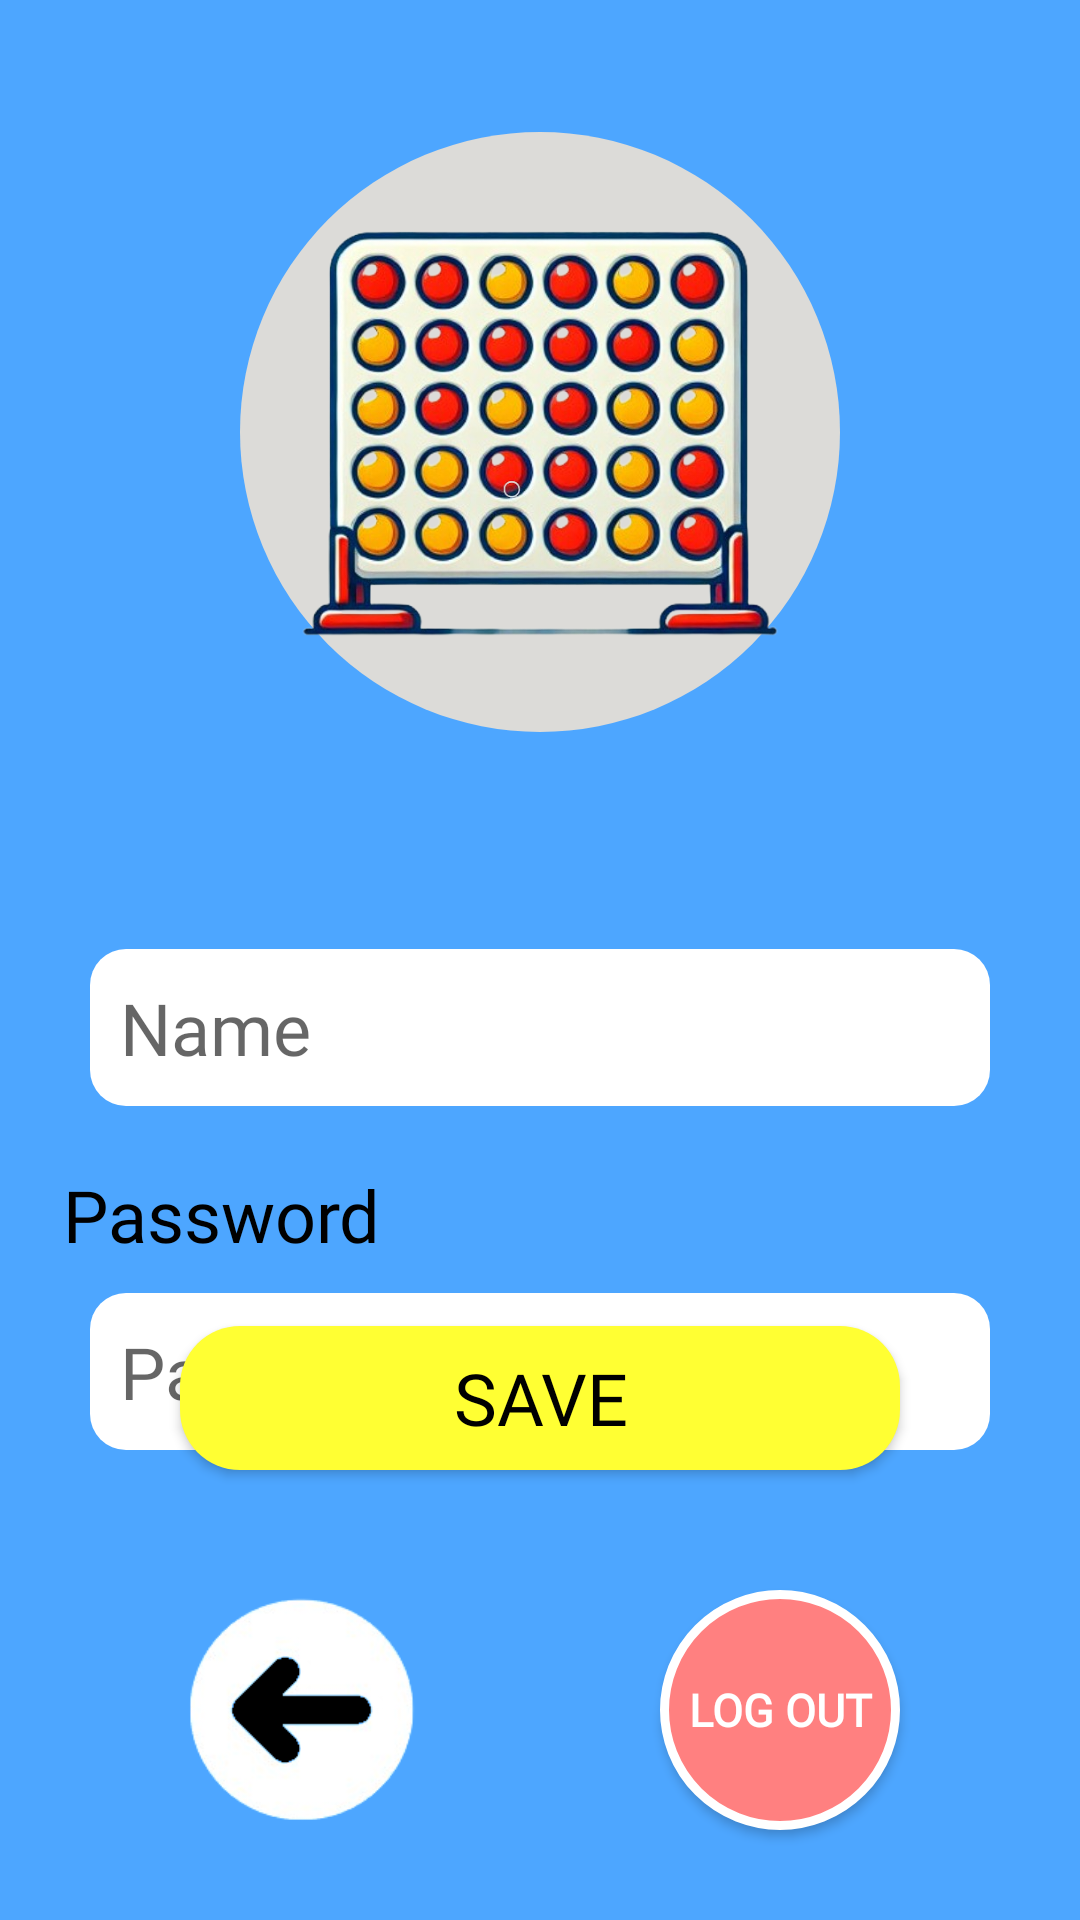

Icons on this 1080 x 1920 Android screen, each with the point to tap as point (x, y):
back arrow: point (301, 1709)
